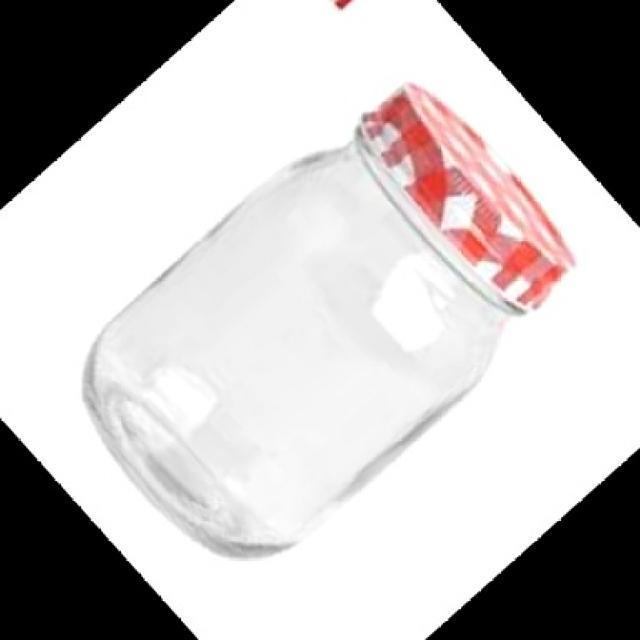Glass: (82, 82, 576, 560)
